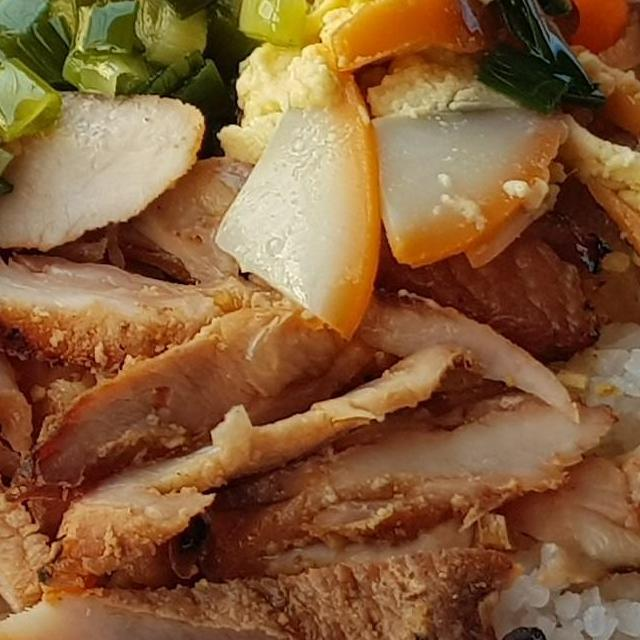com: (471, 273, 640, 640)
com suon bi trung: (0, 0, 640, 640)
dua chua: (0, 0, 321, 217), (271, 0, 640, 132)
suon: (0, 62, 623, 640), (432, 417, 640, 597)
trung: (208, 0, 640, 465)
